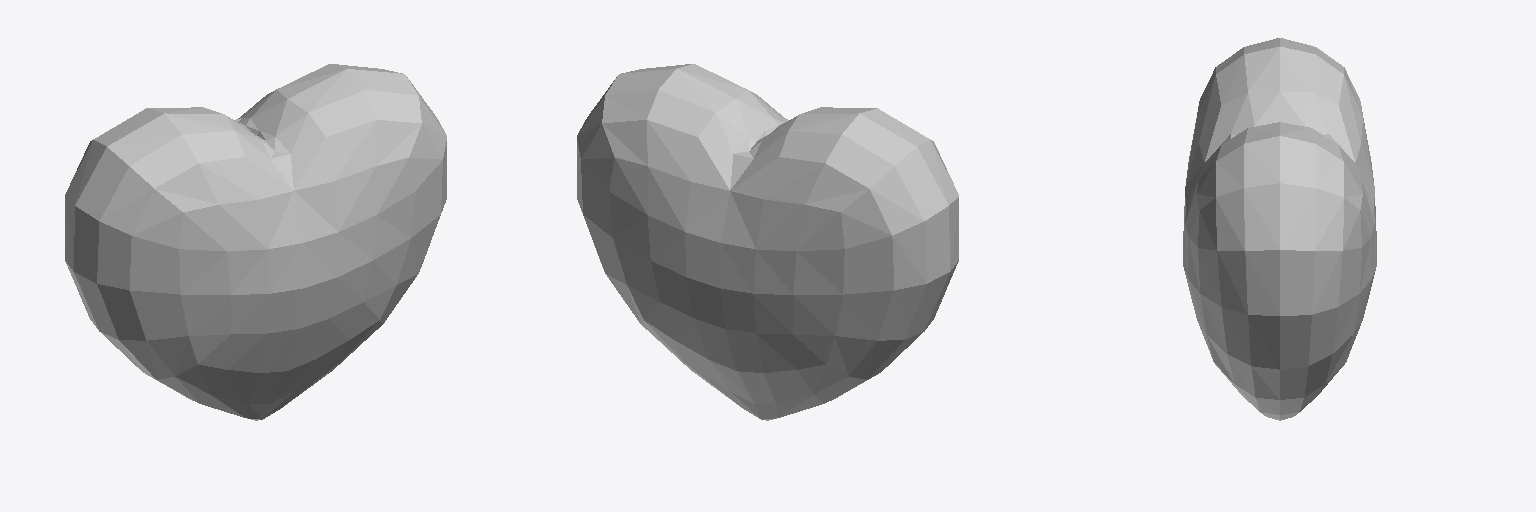
Rendered from heart.obj.
3 views of the same model, side by side, from view 1: azimuth 30°, elevation 25°; view 2: azimuth 150°, elevation 25°; view 3: azimuth 270°, elevation 25° (orthographic).
Parts seen in each view (by area): view 1: Vert; view 2: Vert; view 3: Vert.
Part boxes in pixels (x1,y1,x2,y2): Vert: (65, 64, 446, 420); Vert: (577, 64, 958, 420); Vert: (1183, 38, 1376, 420).
Size of the model in its own units: 1.68 by 1.45 by 0.775.